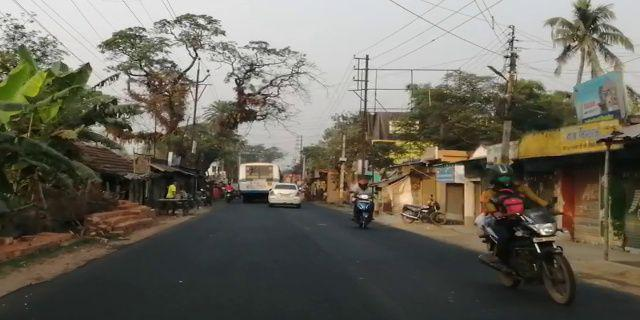Bus: (235, 159, 287, 205)
Car: (268, 180, 303, 207)
Motorbike: (469, 161, 578, 305), (340, 174, 380, 233), (398, 194, 449, 229)
